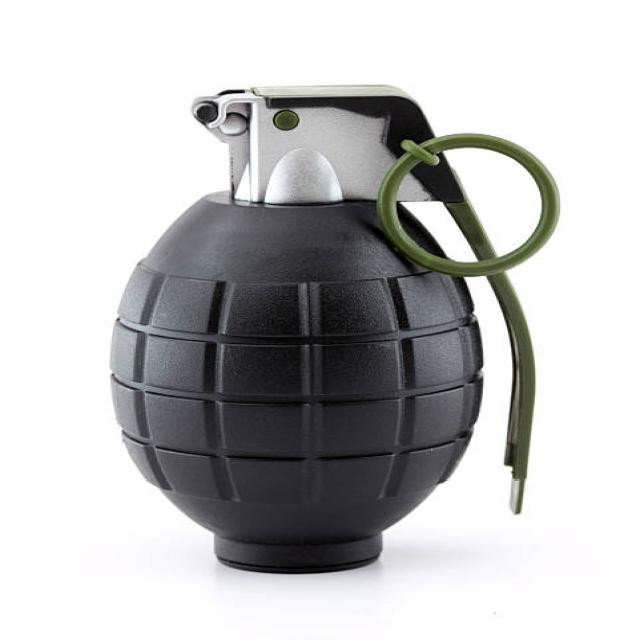grenade: (93, 75, 566, 581)
